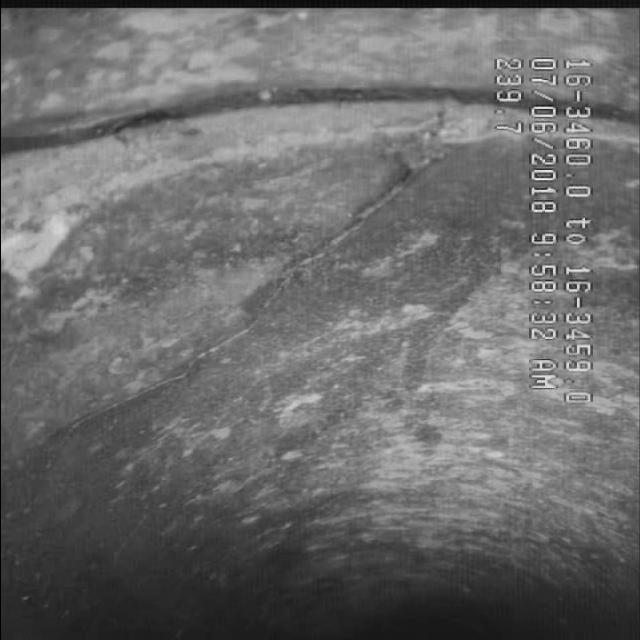Crack: (170, 175, 447, 366)
